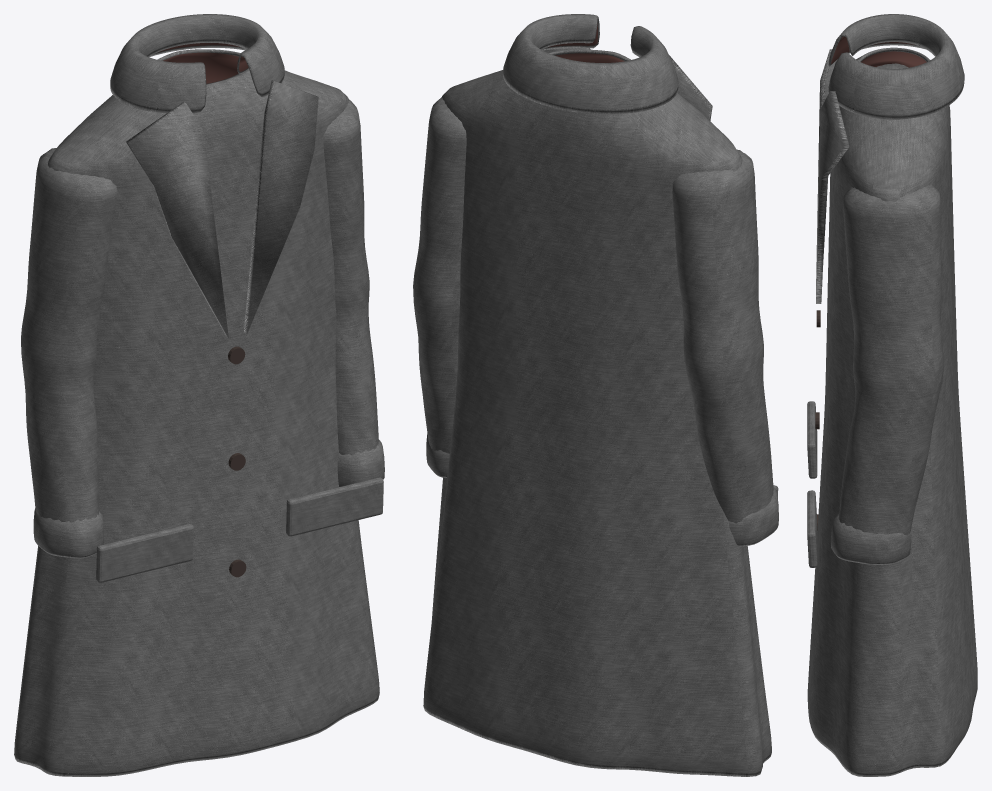
The model's file is wool_coat.glb.
The picture shows the model from 3 angles, left to right: view 1: azimuth 30°, elevation 25°; view 2: azimuth 150°, elevation 25°; view 3: azimuth 270°, elevation 25°; orthographic projection. The views are drawn at different scales.
Parts seen in each view (by area): view 1: body, sleeve-1, sleeve1, collar, lapel-1, lapel1, flap1, flap-1, cuff-1, cuff1; view 2: body, sleeve-1, sleeve1, collar, cuff-1, lapel-1; view 3: body, sleeve1, collar, lapel1, cuff1, flap1, flap-1, lapel-1.
Part boxes in pixels (<box>): body: <box>14,49,379,776</box>; sleeve-1: <box>21,148,116,522</box>; sleeve1: <box>323,99,378,454</box>; collar: <box>110,14,284,113</box>; lapel-1: <box>126,101,228,338</box>; lapel1: <box>243,80,318,333</box>; flap1: <box>286,477,383,536</box>; flap-1: <box>96,524,193,582</box>; cuff-1: <box>33,508,103,558</box>; cuff1: <box>337,440,384,486</box>; body: <box>423,49,771,776</box>; sleeve-1: <box>672,149,773,523</box>; sleeve1: <box>413,97,466,453</box>; collar: <box>503,14,678,114</box>; cuff-1: <box>728,487,778,546</box>; lapel-1: <box>669,55,712,120</box>; body: <box>807,47,977,776</box>; sleeve1: <box>838,184,943,535</box>; collar: <box>828,14,964,119</box>; lapel1: <box>816,91,849,303</box>; cuff1: <box>831,514,911,564</box>; flap1: <box>807,490,817,567</box>; flap-1: <box>807,401,817,478</box>; lapel-1: <box>816,49,836,288</box>.
Bounding box in the file's own units: 0.544 × 1.03 × 0.2424.
3 materials, 1 textured.
